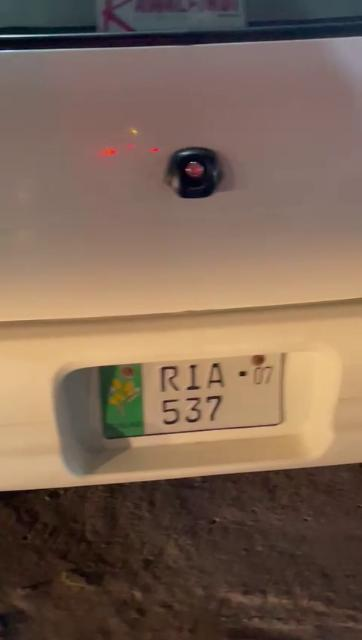plate: (103, 356, 289, 438)
